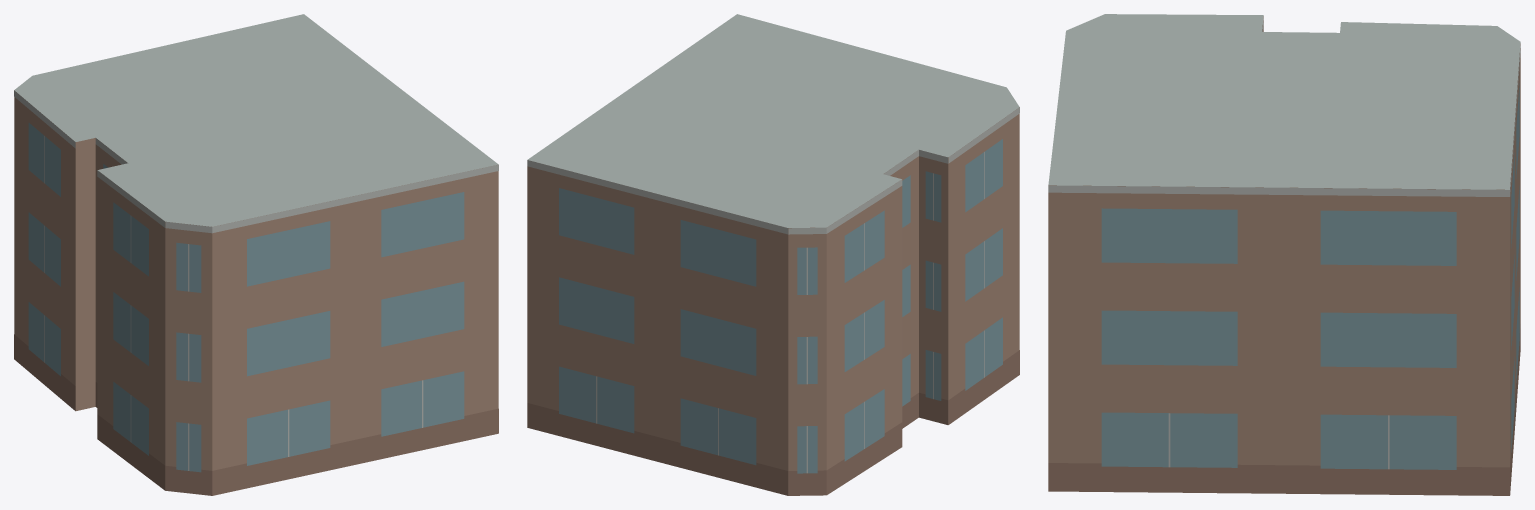
Rendered from survey-upis-33007921.glb.
3 views of the same model, side by side, from view 1: azimuth 30°, elevation 25°; view 2: azimuth 150°, elevation 25°; view 3: azimuth 270°, elevation 25° (orthographic). The views are drawn at different scales.
Visible parts, largest first — view 1: survey-upis-33007921.tmp; view 2: survey-upis-33007921.tmp; view 3: survey-upis-33007921.tmp.
Boxes of the visible parts, box(x1,y1,x2,y2) form: survey-upis-33007921.tmp: box(14, 14, 498, 495); survey-upis-33007921.tmp: box(527, 14, 1019, 495); survey-upis-33007921.tmp: box(1048, 14, 1520, 495).
Bounding box in the file's own units: 12.58 × 10.2 × 14.28.
